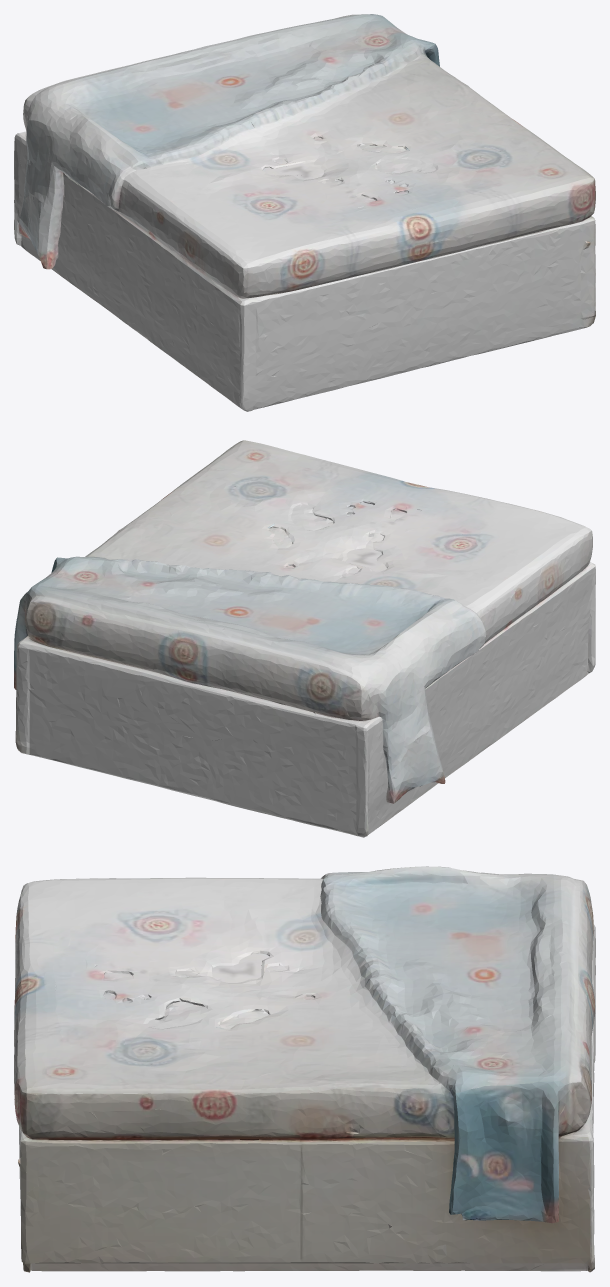
3 renders of one model, top to bottom at view 1: azimuth 30°, elevation 25°; view 2: azimuth 150°, elevation 25°; view 3: azimuth 270°, elevation 25°, orthographic. The views are drawn at different scales.
Visible parts, largest first — view 1: geometry_0; view 2: geometry_0; view 3: geometry_0.
Part boxes in pixels (bbox=[...]): geometry_0: bbox=[14, 14, 595, 411]; geometry_0: bbox=[14, 440, 595, 837]; geometry_0: bbox=[14, 866, 595, 1272].
Bounding box in the file's own units: 0.9939 × 0.3925 × 1.
1 material, 1 textured.
